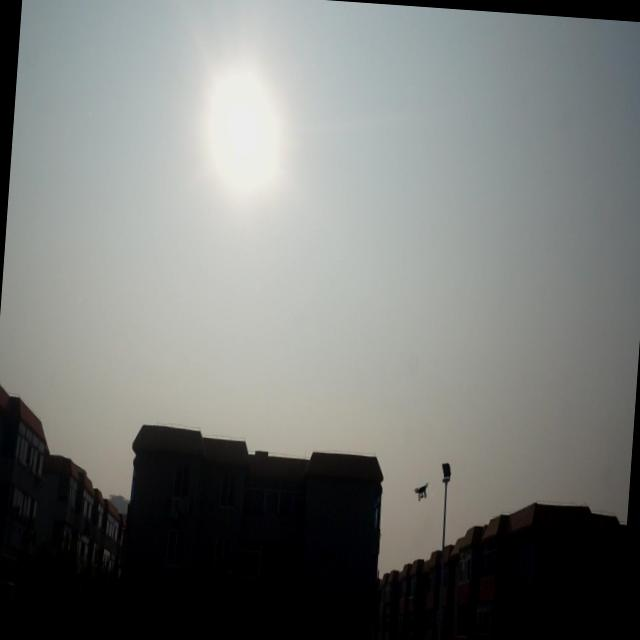drone: (409, 476, 432, 508)
